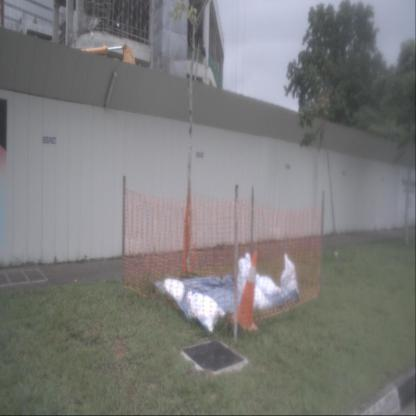movable_object-trafficcone: (230, 250, 258, 332)
